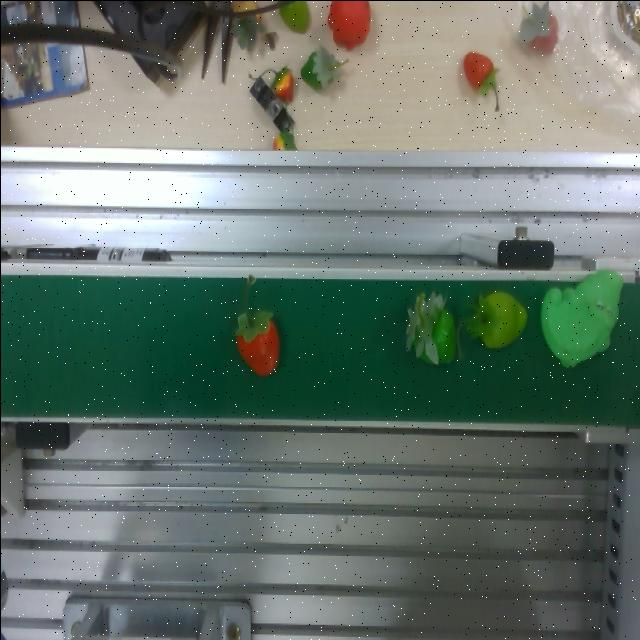Large Unripe Strawberry: (460, 49, 502, 114)
None - Strawberry: (530, 272, 624, 370)
Small Ripe Strawberry: (232, 309, 286, 376)
Small Unripe Strawberry: (399, 295, 463, 377), (473, 279, 522, 369)
conveyor: (0, 266, 639, 435)
